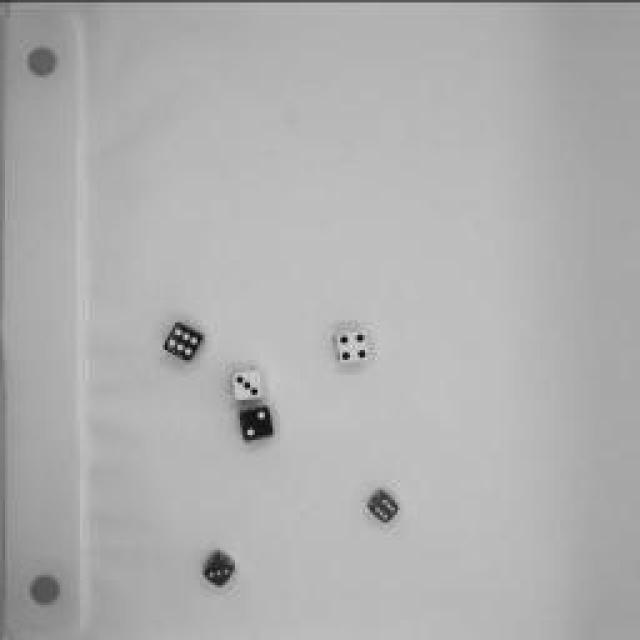dice_2: (236, 398, 284, 448)
dice_3: (225, 362, 270, 402), (201, 548, 239, 588)
dice_4: (330, 324, 372, 366)
dice_6: (160, 317, 210, 365), (364, 486, 401, 526)
